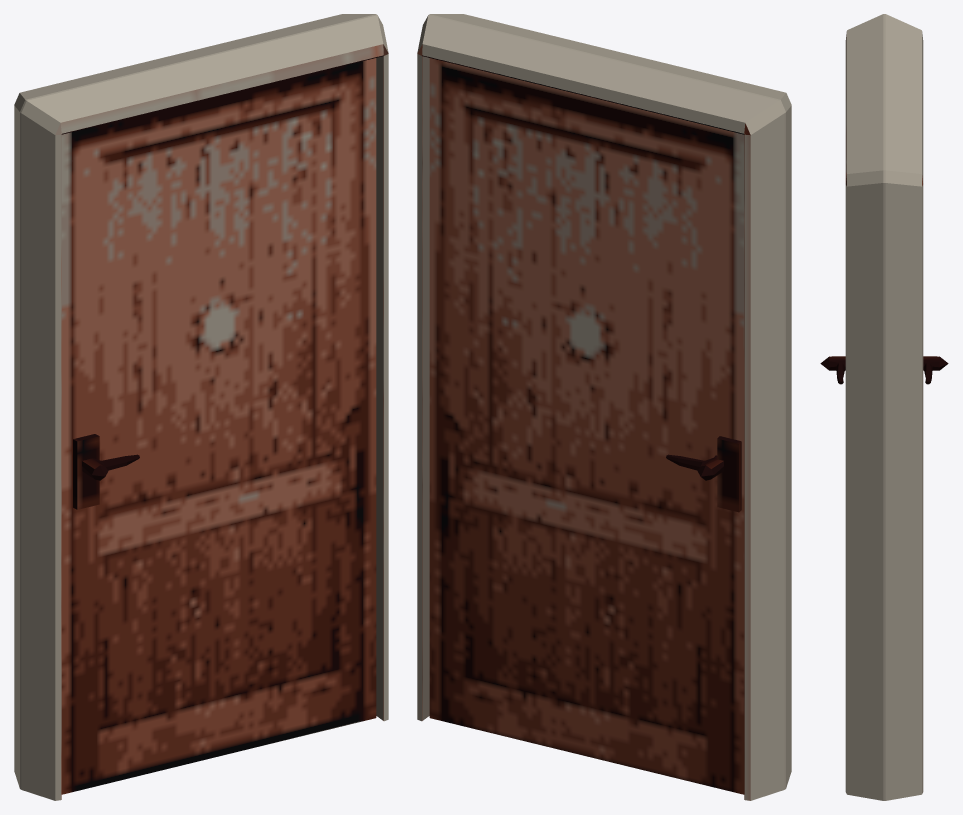
File: SaveRoomDoor.fbx
3 views of the same model, side by side, from view 1: azimuth 30°, elevation 25°; view 2: azimuth 150°, elevation 25°; view 3: azimuth 270°, elevation 25° (orthographic). The views are drawn at different scales.
Visible parts, largest first — view 1: SaveRoomDoor, SaveRoomDoorRestraint, SaveRoomHandle; view 2: SaveRoomDoor, SaveRoomDoorRestraint, SaveRoomHandle; view 3: SaveRoomDoorRestraint, SaveRoomHandle.
Boxes of the visible parts, x1=… form: SaveRoomDoor: x1=61, y1=58, x2=376, y2=794; SaveRoomDoorRestraint: x1=14, y1=14, x2=388, y2=800; SaveRoomHandle: x1=82, y1=454, x2=139, y2=480; SaveRoomDoor: x1=429, y1=58, x2=744, y2=794; SaveRoomDoorRestraint: x1=417, y1=14, x2=791, y2=800; SaveRoomHandle: x1=666, y1=454, x2=723, y2=480; SaveRoomDoorRestraint: x1=845, y1=14, x2=923, y2=800; SaveRoomHandle: x1=820, y1=356, x2=948, y2=384.
Bounding box in the file's own units: 1.11 × 2.01 × 0.3722.
